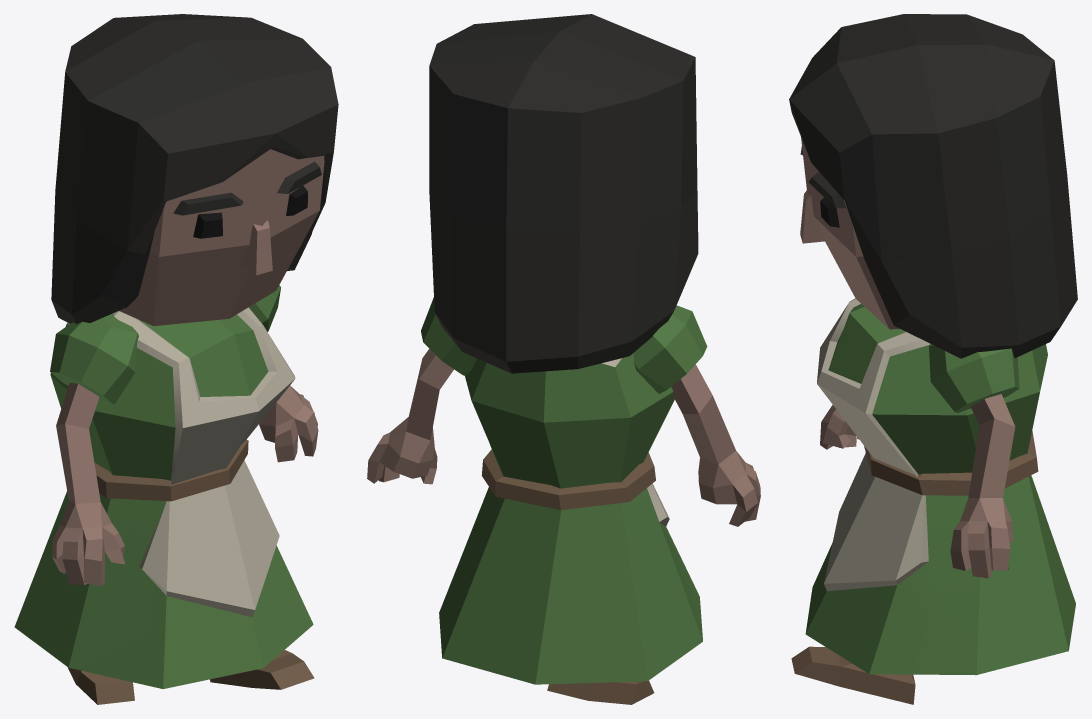
File: femme-3.glb
The picture shows the model from 3 angles, left to right: view 1: azimuth 30°, elevation 25°; view 2: azimuth 150°, elevation 25°; view 3: azimuth 270°, elevation 25°; orthographic projection.
Visible parts, largest first — view 1: InnKeeper_GEO_CharTxt_MAT_0; view 2: InnKeeper_GEO_CharTxt_MAT_0; view 3: InnKeeper_GEO_CharTxt_MAT_0.
Part boxes in pixels (<box>): InnKeeper_GEO_CharTxt_MAT_0: <box>14,14,338,704</box>; InnKeeper_GEO_CharTxt_MAT_0: <box>367,14,760,704</box>; InnKeeper_GEO_CharTxt_MAT_0: <box>789,14,1077,704</box>.
Bounding box in the file's own units: 0.7051 × 1.35 × 0.5521.
Materials: 1 (1 with a texture image).
